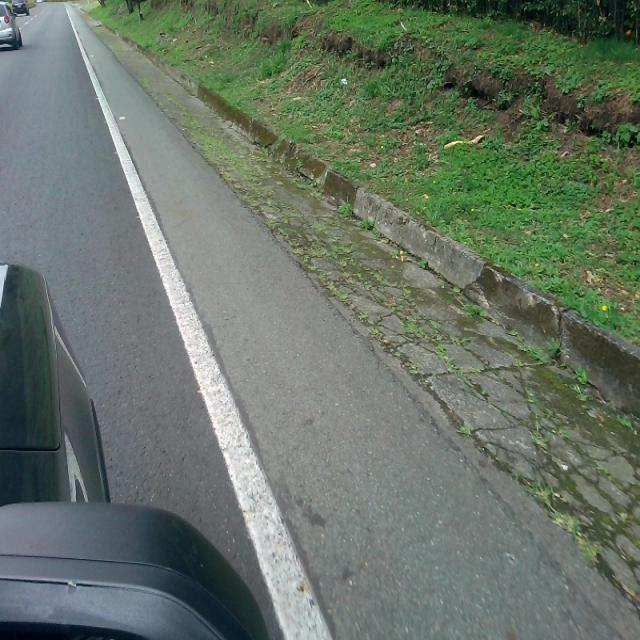DITCH: (16, 24, 638, 638), (65, 3, 638, 633)
